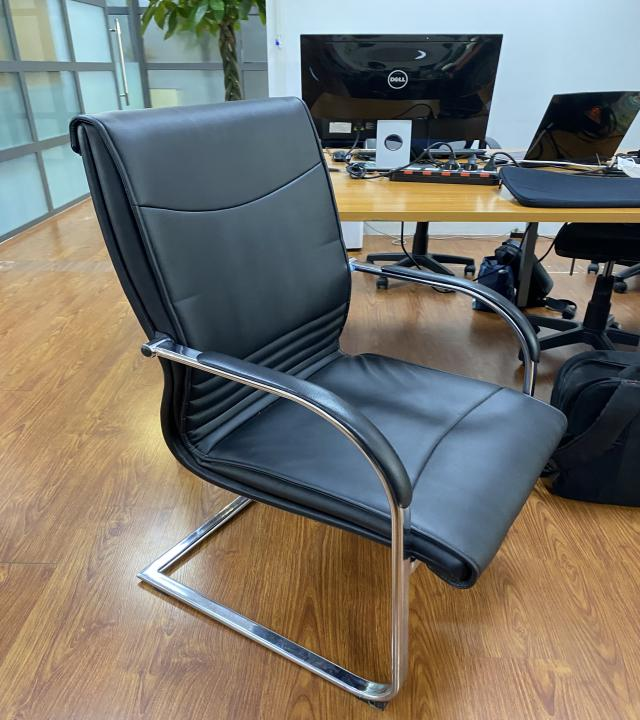SS_03: (67, 94, 571, 707)
